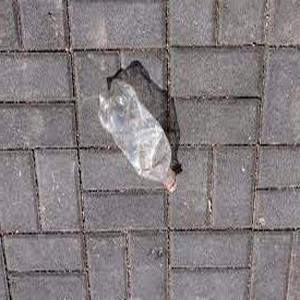Plastic: (95, 78, 180, 195)
